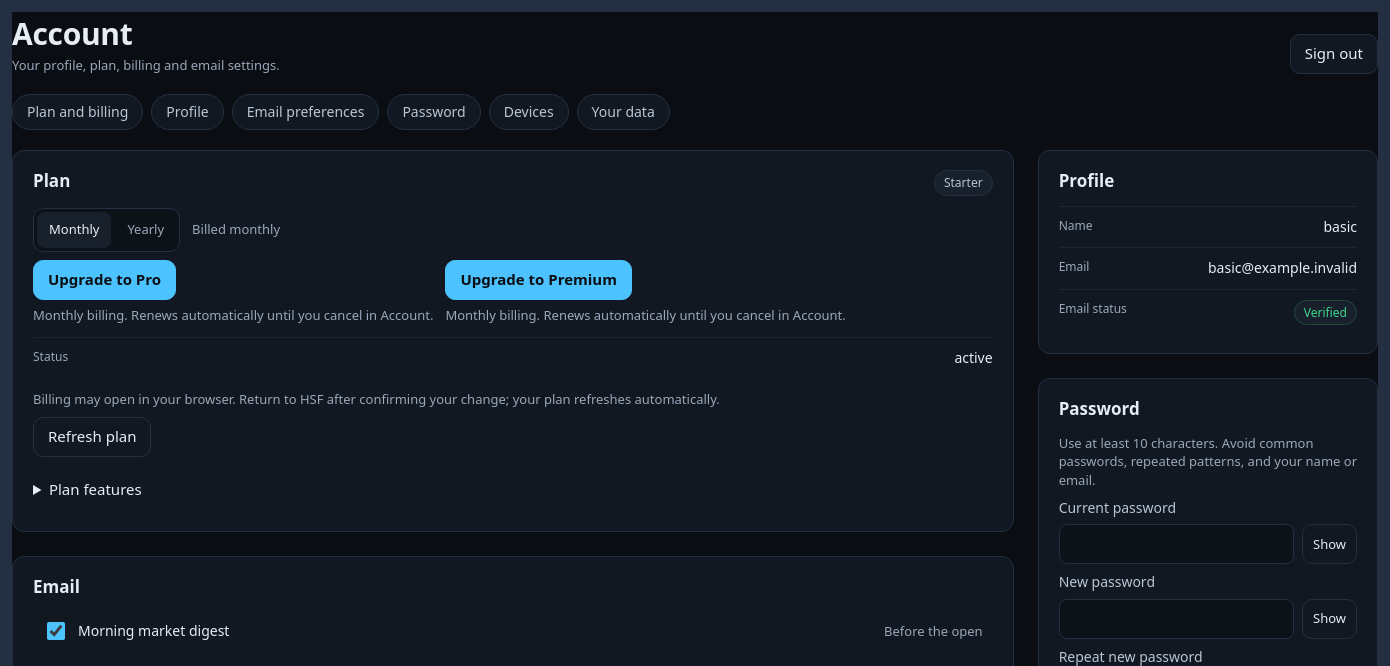
Test: Account › keeps monthly as the default and explains unavailable yearly checkout without substituting monthly
This screenshot has width=1390, height=666.
Click the button "Upgrade to Pro". click: {"x": 105, "y": 280}
box: [33,260,176,300]
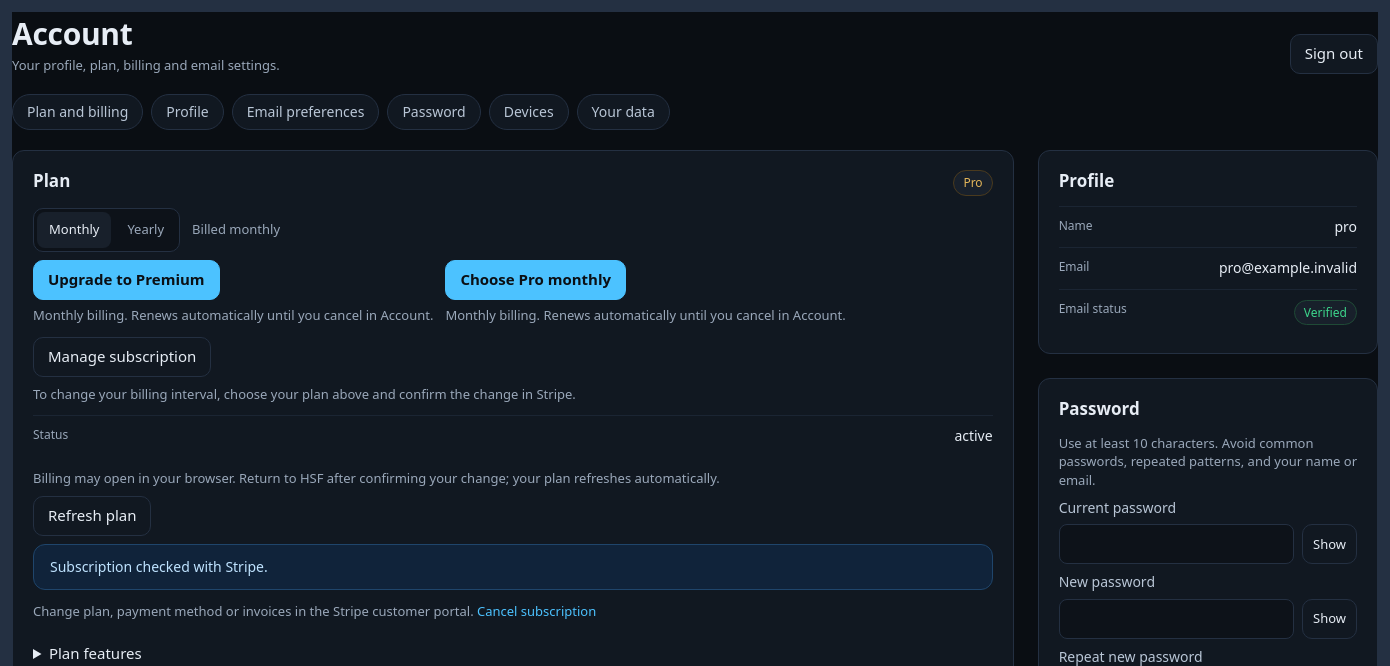
Click the radio button labelled "Yearly". click: {"x": 146, "y": 229}
box: [127,220,164,238]
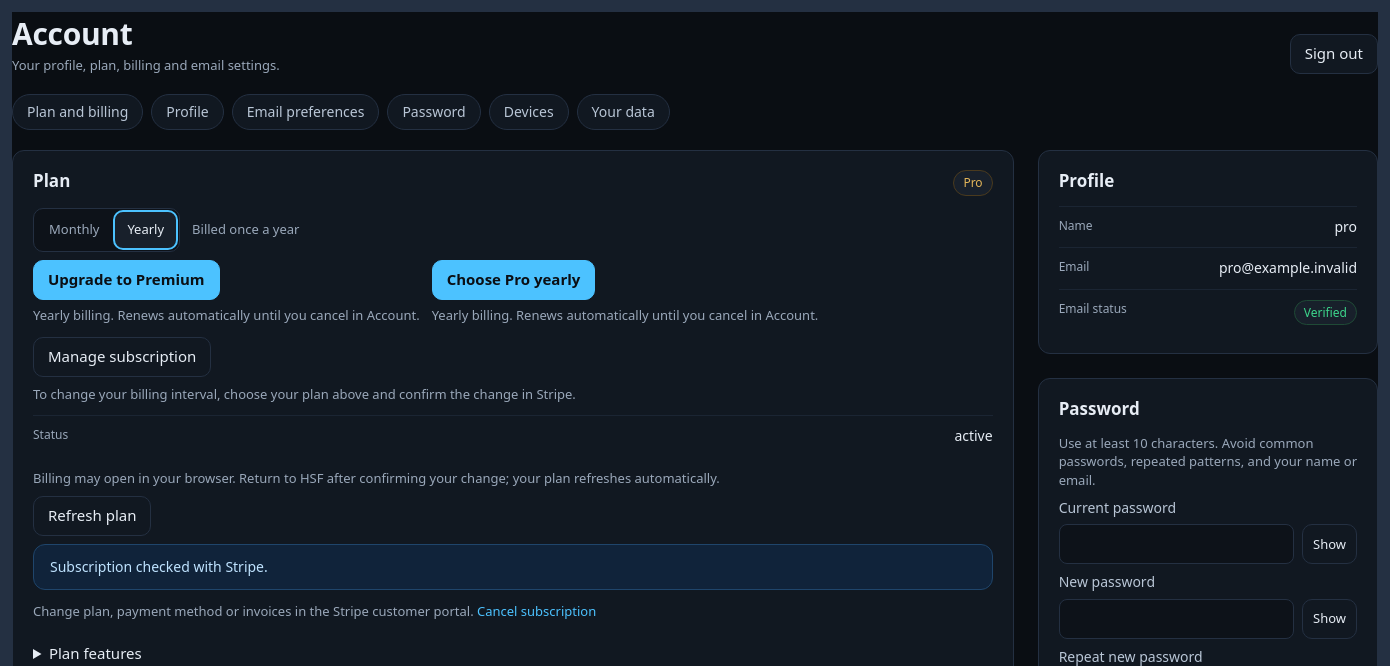
Click the button "Upgrade to Premium". click: {"x": 126, "y": 280}
box: [33,260,220,300]
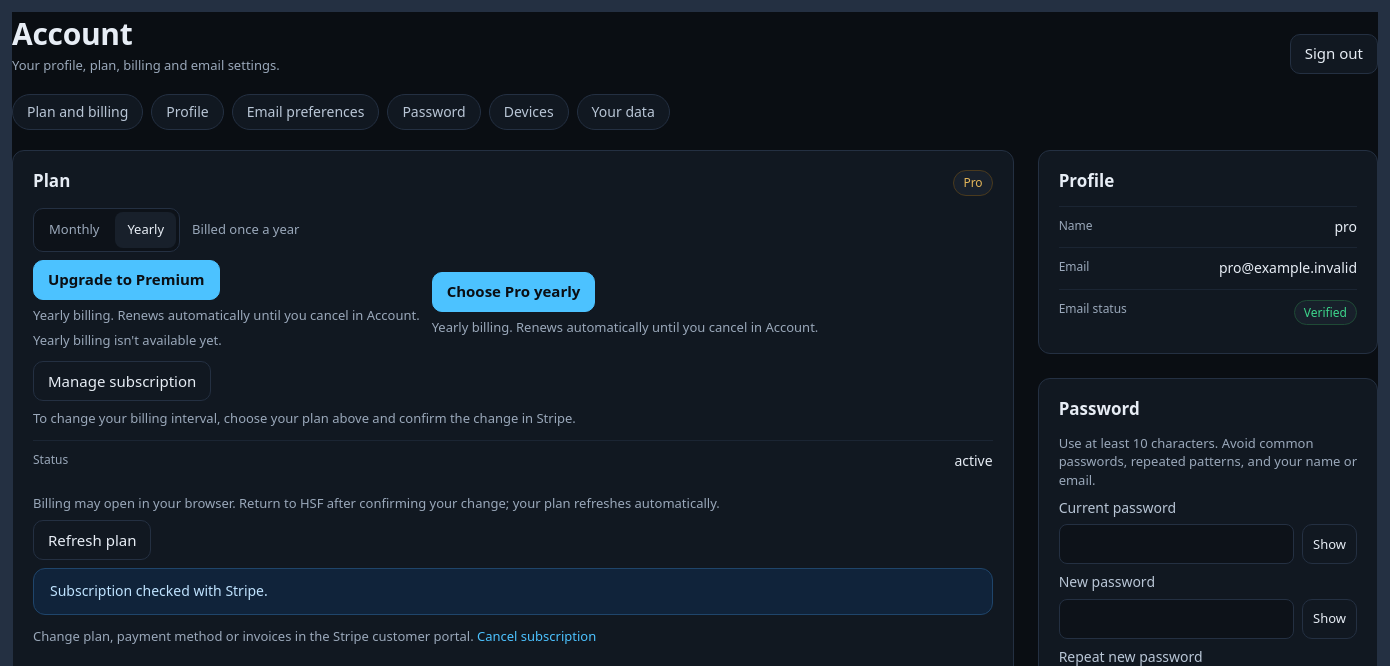
Check: the text "Yearly billing isn't available yet." is shown, box [33,331,222,349]
